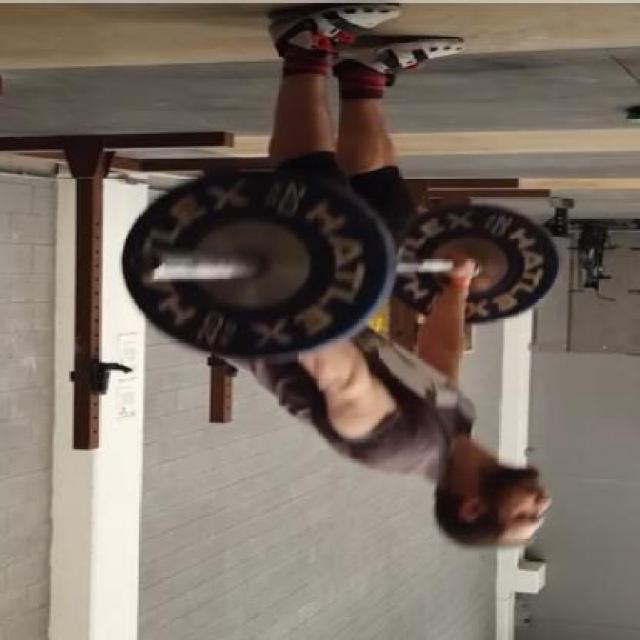Barbell: (121, 246, 170, 286)
